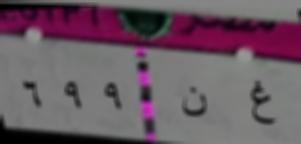6: (20, 74, 46, 114)
9: (60, 77, 86, 116), (102, 77, 126, 117)
ghayn: (244, 72, 277, 134)
noon: (171, 82, 215, 122)
